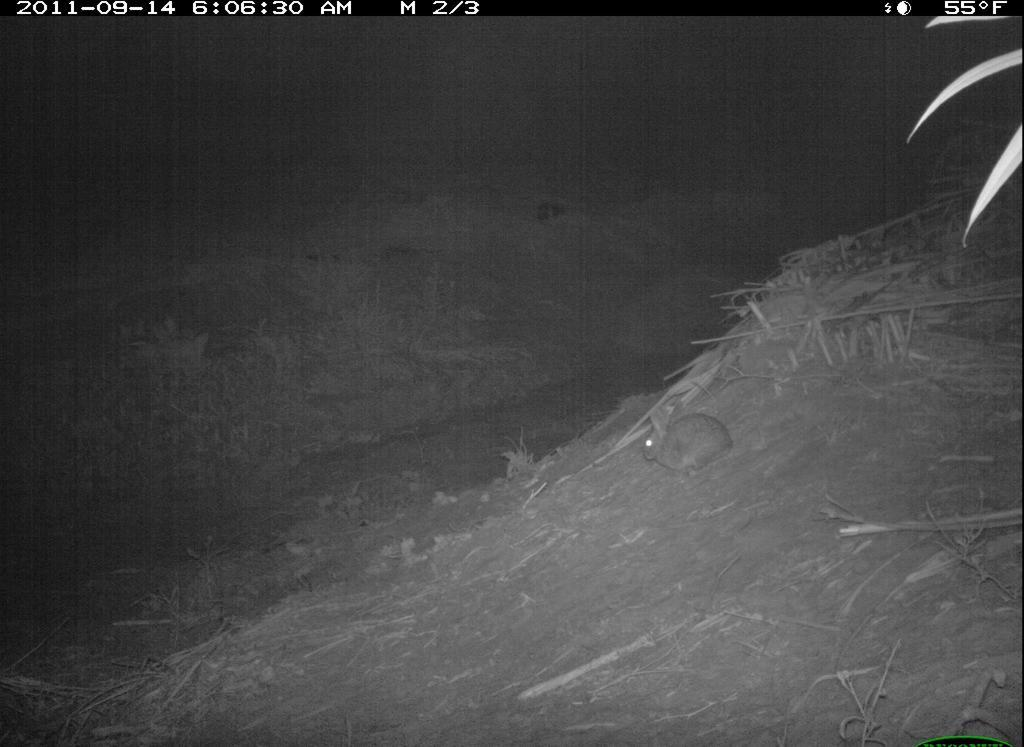rabbit: (619, 391, 780, 502)
